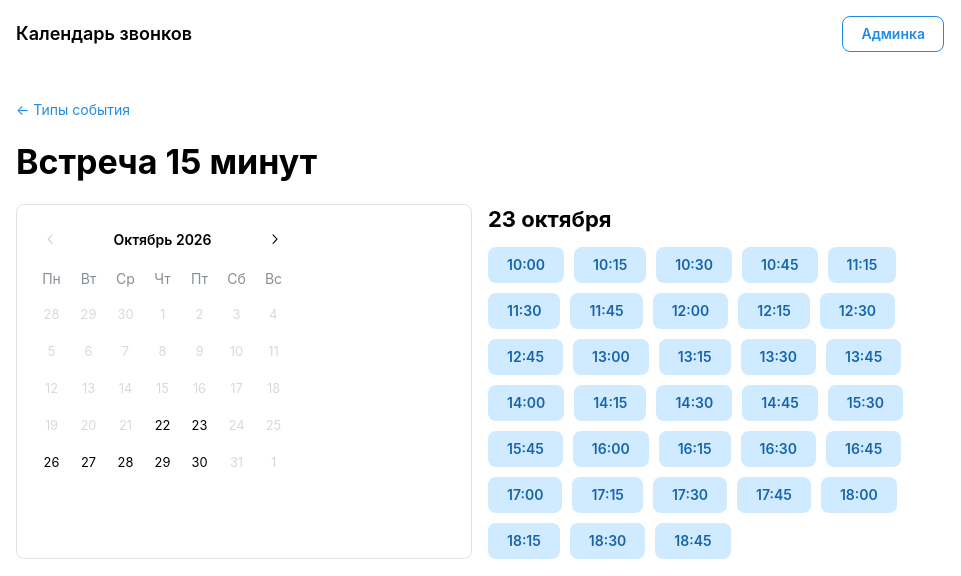
Test case: полностью занятый день показывает «Нет слотов на этот день»
Click the button named "Следующий месяц": (274, 240) [256,222,292,258]
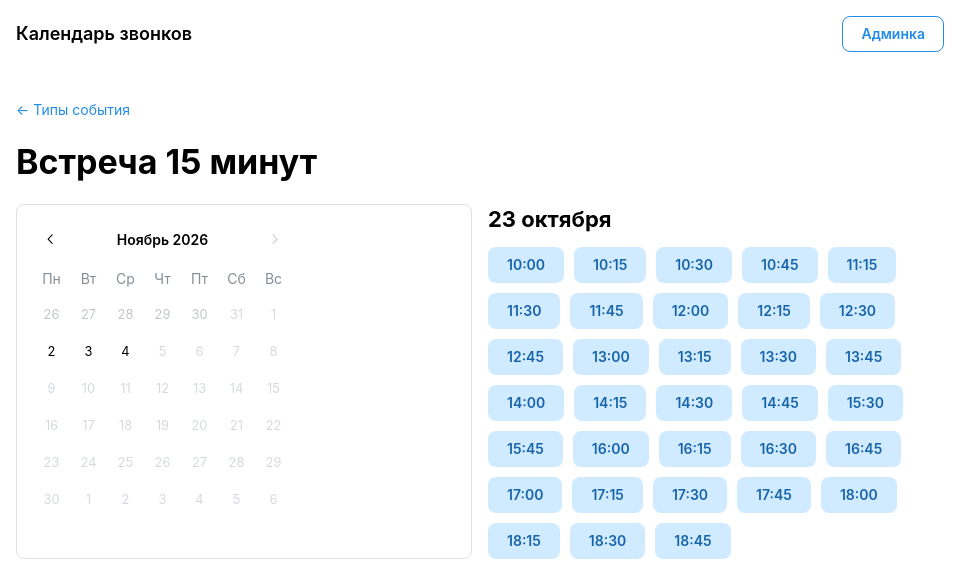
Click the 1st button "4": (126, 352) [108,334,144,370]
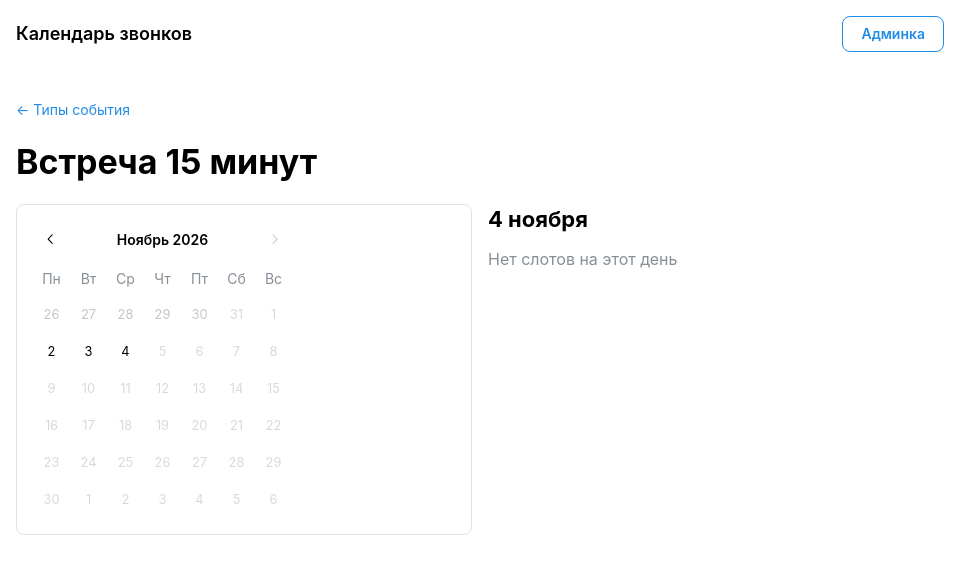
Result: the text "Нет слотов на этот день" is shown at [488,249,678,269]
Result: the button "10:00" is gone
